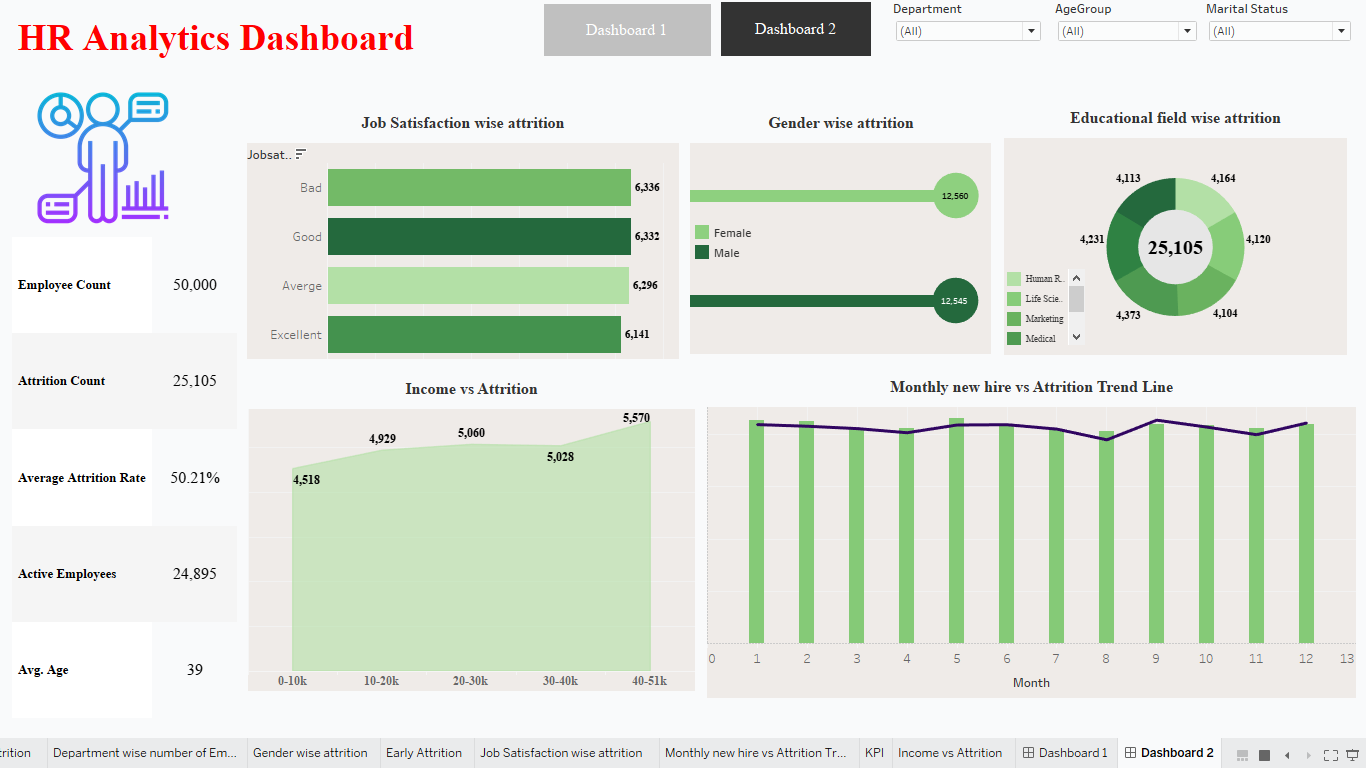

This screenshot's page, from the dashboard's own definition file:
{"tool":"tableau","page":{"name":"Dashboard 2","canvas":[1000,1000],"units":"permille","ordinal":1},"visuals":[{"type":"filter","title":"Job Satisfaction wise attrition","param":"[federated.01j7y7x0jsq0ed14inzwk0af3529].[none:Department:nk]","box":[653.7,0,110.8,72.6]},{"type":"filter","title":"Job Satisfaction wise attrition","param":"[federated.01j7y7x0jsq0ed14inzwk0af3529].[none:Calculation_18295927729135624:nk]","box":[772.3,0,106.5,76]},{"type":"filter","title":"Job Satisfaction wise attrition","param":"[federated.01j7y7x0jsq0ed14inzwk0af3529].[none:MaritalStatus:nk]","box":[883.1,0,108.2,94.6]},{"type":"text","box":[11.3,1.7,374.9,99.7]},{"type":"dashboard-object","box":[528.1,3.4,110,72.6]},{"type":"dashboard-object","box":[398.3,5.1,122.1,71]},{"type":"image","param":"Image/1876375.png","box":[26,121.6,101.3,182.4]},{"type":"worksheet","title":"Educational field wise attrition","mark":"Pie","rows":["Calculation_18295927732559881","Calculation_18295927732559881"],"box":[735.1,141.9,251.1,339.5]},{"type":"worksheet","title":"Job Satisfaction wise attrition","mark":"Automatic","rows":["Calculation_18295927720361984"],"cols":["Attrition1"],"box":[181,148.7,316,337.8]},{"type":"worksheet","title":"Gender wise attrition","mark":"Automatic","rows":["Gender"],"cols":["Attrition1","Attrition1"],"box":[504.8,148.7,220.8,339.5]},{"type":"legend","title":"Gender wise attrition","param":"[federated.01j7y7x0jsq0ed14inzwk0af3529].[none:Gender:nk]","box":[506.5,300.7,68.4,81.1]},{"type":"worksheet","title":"KPI","mark":"Automatic","box":[8.7,320.9,164.5,652]},{"type":"legend","title":"Educational field wise attrition","param":"[federated.01j7y7x0jsq0ed14inzwk0af3529].[none:EducationField:nk]","box":[735.1,364.9,60.6,103]},{"type":"worksheet","title":"Monthly new hire vs Attrition Trend Line","mark":"Bar","rows":["Employee ID","Attrition1"],"cols":["Month"],"box":[517.8,506.8,475.3,439.2]},{"type":"worksheet","title":"Income vs Attrition","mark":"Area","rows":["Attrition1"],"cols":["IncomeSlab"],"box":[181.8,510.1,327.3,427.4]}]}

Visuals, with their boxes on the dashboard's canvas, which has no fixed pixel size, in thousandths of its width and height (x1, y1, x2, y2). These are canvas units, not pixel positions in the 1366x768 screenshot, which may show the page scaled, cropped or inside an application window:
"Job Satisfaction wise attrition" filter: {"left": 654, "top": 0, "right": 764, "bottom": 73}
"Job Satisfaction wise attrition" filter: {"left": 772, "top": 0, "right": 879, "bottom": 76}
"Job Satisfaction wise attrition" filter: {"left": 883, "top": 0, "right": 991, "bottom": 95}
text: {"left": 11, "top": 2, "right": 386, "bottom": 101}
dashboard-object: {"left": 528, "top": 3, "right": 638, "bottom": 76}
dashboard-object: {"left": 398, "top": 5, "right": 520, "bottom": 76}
image: {"left": 26, "top": 122, "right": 127, "bottom": 304}
"Educational field wise attrition" worksheet (Pie marks): {"left": 735, "top": 142, "right": 986, "bottom": 481}
"Job Satisfaction wise attrition" worksheet: {"left": 181, "top": 149, "right": 497, "bottom": 486}
"Gender wise attrition" worksheet: {"left": 505, "top": 149, "right": 726, "bottom": 488}
"Gender wise attrition" legend: {"left": 506, "top": 301, "right": 575, "bottom": 382}
"KPI" worksheet: {"left": 9, "top": 321, "right": 173, "bottom": 973}
"Educational field wise attrition" legend: {"left": 735, "top": 365, "right": 796, "bottom": 468}
"Monthly new hire vs Attrition Trend Line" worksheet (Bar marks): {"left": 518, "top": 507, "right": 993, "bottom": 946}
"Income vs Attrition" worksheet (Area marks): {"left": 182, "top": 510, "right": 509, "bottom": 938}
